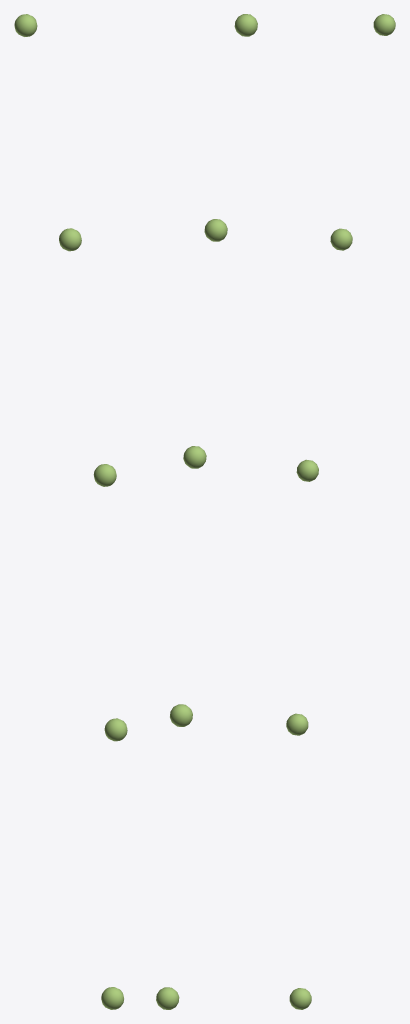
The model's file is precaval-nodes.glb.
3 views of the same model, side by side, from view 1: azimuth 90°, elevation 25°; view 2: azimuth 210°, elevation 25°; view 3: azimuth 270°, elevation 25° (orthographic). The views are drawn at different scales.
Parts seen in each view (by area): view 1: Precaval nodes; view 2: Precaval nodes; view 3: Precaval nodes.
Boxes of the visible parts, x1=… form: Precaval nodes: x1=14, y1=14, x2=127, y2=1009; Precaval nodes: x1=156, y1=14, x2=257, y2=1009; Precaval nodes: x1=286, y1=14, x2=395, y2=1009.
Size of the model in its own units: 0.00702 by 0.1242 by 0.0126.
